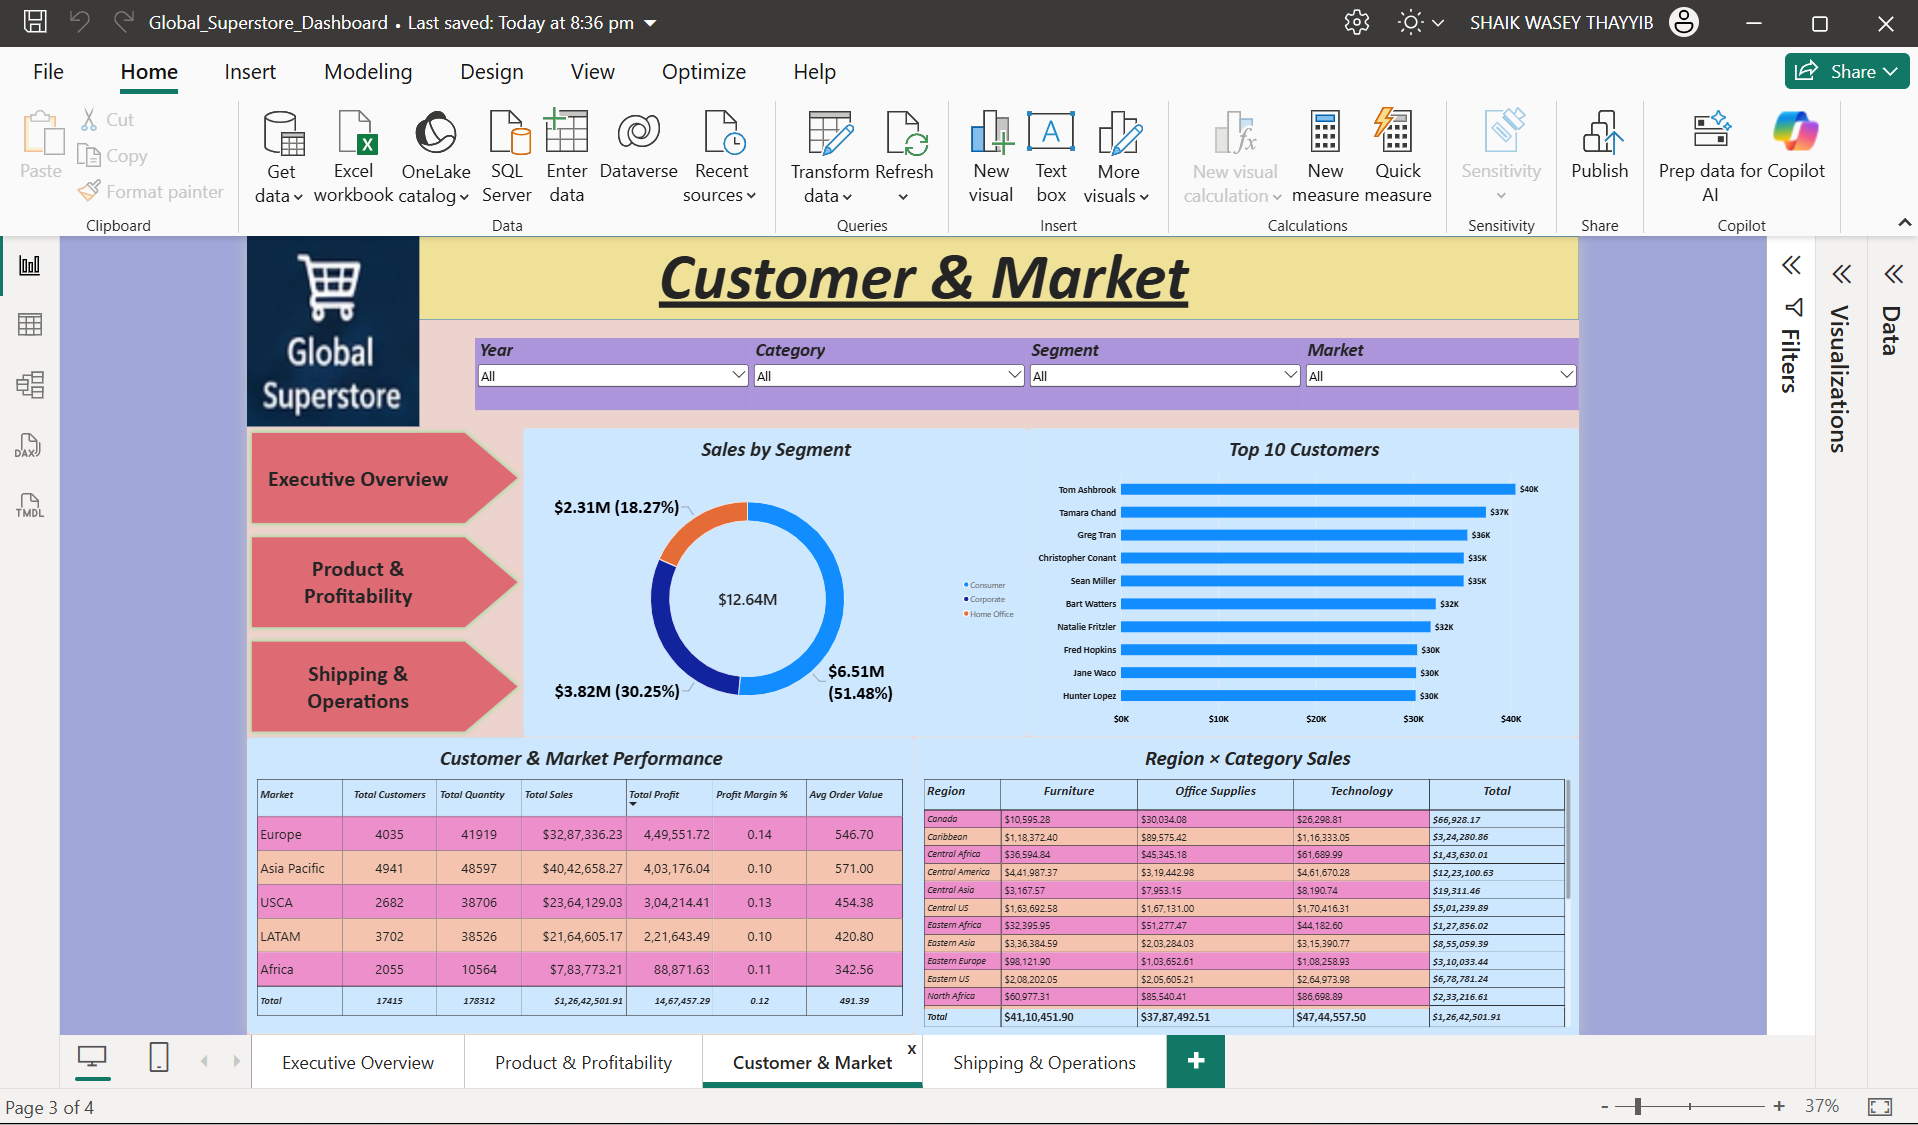

This screenshot's page, from the dashboard's own definition file:
{"tool":"powerbi","page":{"name":"Customer & Market","canvas":[2400,1440],"ordinal":2},"visuals":[{"type":"donutChart","title":" Sales by Segment","fields":{"Category":["Orders.Segment"],"Y":["_Measures.Total Sales"]},"box":[497.4,346,911.1,556.9],"z":0},{"type":"clusteredBarChart","title":" Top 10 Customers","fields":{"Category":["Orders.Customer Name"],"Y":["_Measures.Total Sales"]},"box":[1408.5,346,992.2,556.9],"z":1000},{"type":"tableEx","title":"Customer & Market Performance","fields":{"Values":["Orders.Market","_Measures.Total Customers","_Measures.Total Quantity","_Measures.Total Sales","_Measures.Total Profit","_Measures.Profit Margin %","_Measures.Avg Order Value"]},"box":[0,902.9,1203,535.3],"z":2000},{"type":"pivotTable","title":" Region × Category Sales ","fields":{"Columns":["Orders.Category"],"Rows":["Orders.Region"],"Values":["_Measures.Total Sales"]},"box":[1203,902.9,1200.3,540.7],"z":3000},{"type":"slicer","fields":{"Values":["Date.Year"]},"box":[410.9,183.8,497.4,129.8],"z":4000},{"type":"slicer","fields":{"Values":["Orders.Category"]},"box":[908.4,183.8,497.4,129.8],"z":5000},{"type":"slicer","fields":{"Values":["Orders.Market"]},"box":[1903.2,183.8,497.4,129.8],"z":6000},{"type":"slicer","fields":{"Values":["Orders.Segment"]},"box":[1405.8,183.8,497.4,129.8],"z":7000},{"type":"shape","box":[0,0,2401,151],"z":8000},{"type":"textbox","box":[359.6,0,1586.9,151.4],"z":9000},{"type":"pageNavigator","box":[0,346,497.4,556.9],"z":10000},{"type":"image","box":[0,0,310.9,343.3],"z":11000}]}

Visuals, with their boxes on the page's 2400x1440 design canvas (x1, y1, x2, y2). These are canvas units, not pixel positions in the 1918x1125 screenshot, which may show the page scaled, cropped or inside an application window:
" Sales by Segment" donutChart: 497, 346, 1408, 903
" Top 10 Customers" clusteredBarChart: 1408, 346, 2401, 903
"Customer & Market Performance" tableEx: 0, 903, 1203, 1438
" Region × Category Sales " pivotTable: 1203, 903, 2403, 1444
slicer - Date.Year: 411, 184, 908, 314
slicer - Orders.Category: 908, 184, 1406, 314
slicer - Orders.Market: 1903, 184, 2401, 314
slicer - Orders.Segment: 1406, 184, 1903, 314
shape: 0, 0, 2401, 151
textbox: 360, 0, 1946, 151
pageNavigator: 0, 346, 497, 903
image: 0, 0, 311, 343
